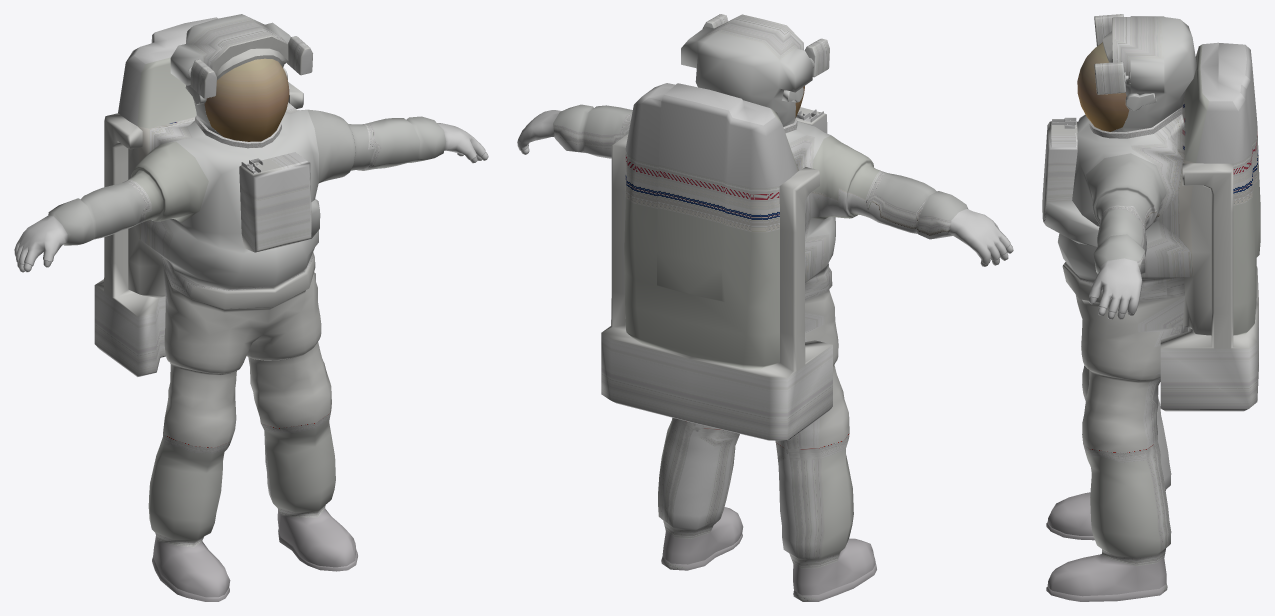
File: astronaut_operative.glb
3 renders of one model, left to right at view 1: azimuth 30°, elevation 25°; view 2: azimuth 150°, elevation 25°; view 3: azimuth 270°, elevation 25°, orthographic. The views are drawn at different scales.
Visible parts, largest first — view 1: astronaut1; view 2: astronaut1; view 3: astronaut1.
Boxes of the visible parts, x1,y1,x2,y2 form: astronaut1: [14, 14, 488, 601]; astronaut1: [517, 14, 1013, 601]; astronaut1: [1042, 14, 1260, 601].
Bounding box in the file's own units: 68.91 × 74.26 × 27.6.
Materials: 4 (2 with a texture image).
